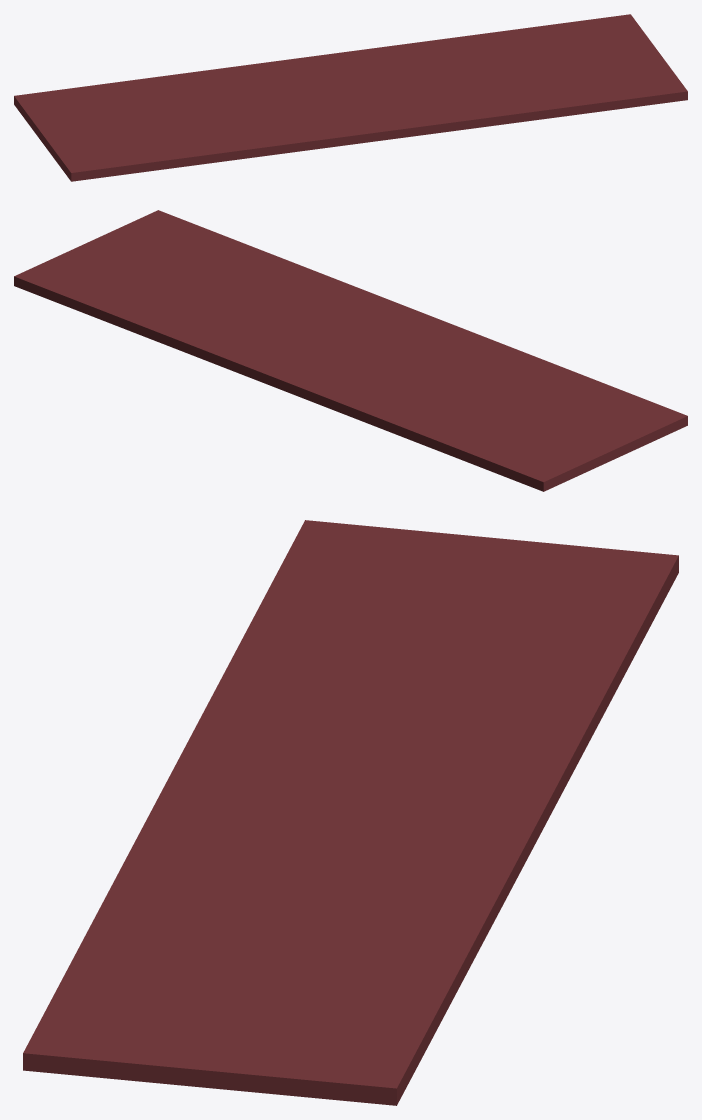
Rendered from INT_C_OldStain_01.glb.
3 views of the same model, one above another, from view 1: azimuth 30°, elevation 25°; view 2: azimuth 150°, elevation 25°; view 3: azimuth 270°, elevation 25° (orthographic). The views are drawn at different scales.
Parts seen in each view (by area): view 1: INT_C_OldStain_01; view 2: INT_C_OldStain_01; view 3: INT_C_OldStain_01.
Boxes of the visible parts, <box> form: INT_C_OldStain_01: <box>14,14,687,181</box>; INT_C_OldStain_01: <box>14,210,687,491</box>; INT_C_OldStain_01: <box>23,520,678,1105</box>.
Size of the model in its own units: 1.69 by 0.024 by 0.822.
